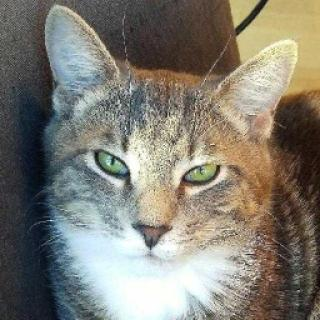cat: (35, 4, 303, 284)
nose: (128, 190, 180, 250)
